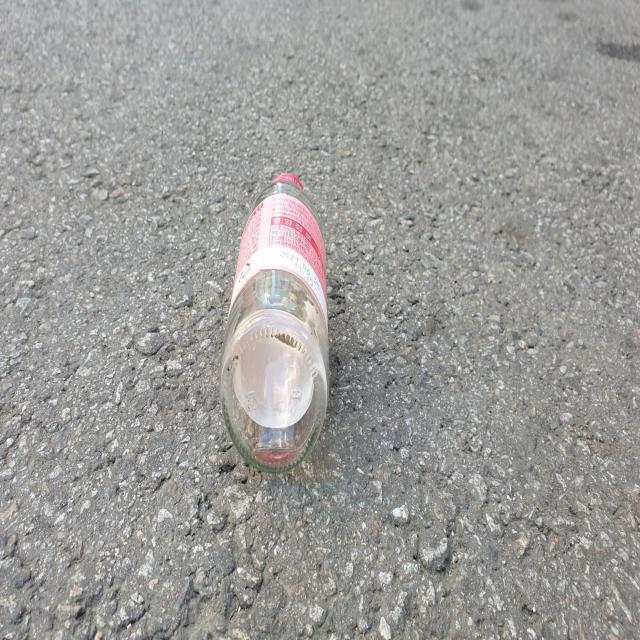glass: (220, 173, 329, 471)
